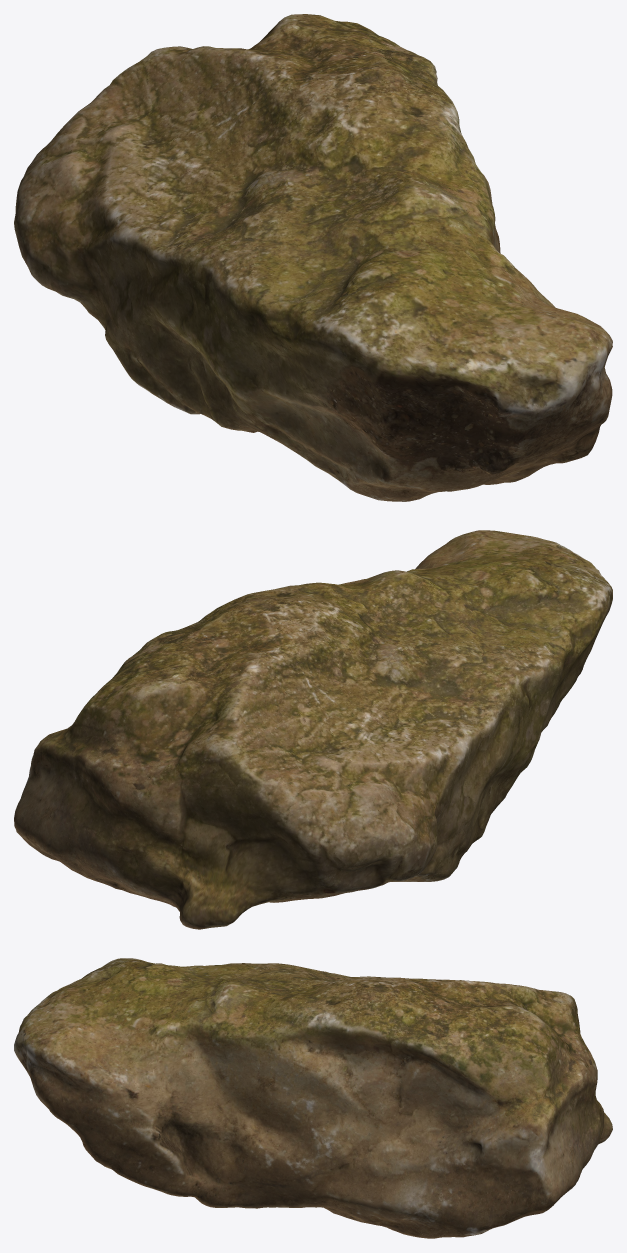
3 views of the same model, one above another, from view 1: azimuth 30°, elevation 25°; view 2: azimuth 150°, elevation 25°; view 3: azimuth 270°, elevation 25° (orthographic). The views are drawn at different scales.
Parts seen in each view (by area): view 1: moss_rock_06-material; view 2: moss_rock_06-material; view 3: moss_rock_06-material.
Part boxes in pixels (x1,y1,x2,y2): moss_rock_06-material: (14, 14, 612, 501); moss_rock_06-material: (14, 530, 612, 929); moss_rock_06-material: (14, 958, 612, 1238).
Bounding box in the file's own units: 1.82 × 1.21 × 3.
1 material, 1 textured.
